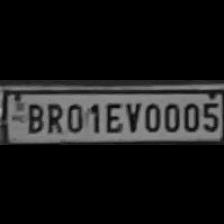0: (141, 98, 161, 132), (64, 100, 84, 132), (161, 98, 181, 130), (180, 98, 200, 130)
1: (83, 100, 101, 132)
5: (200, 98, 220, 130)
B: (22, 100, 44, 132)
E: (102, 99, 124, 133)
R: (44, 99, 64, 133)
V: (122, 98, 142, 132)
